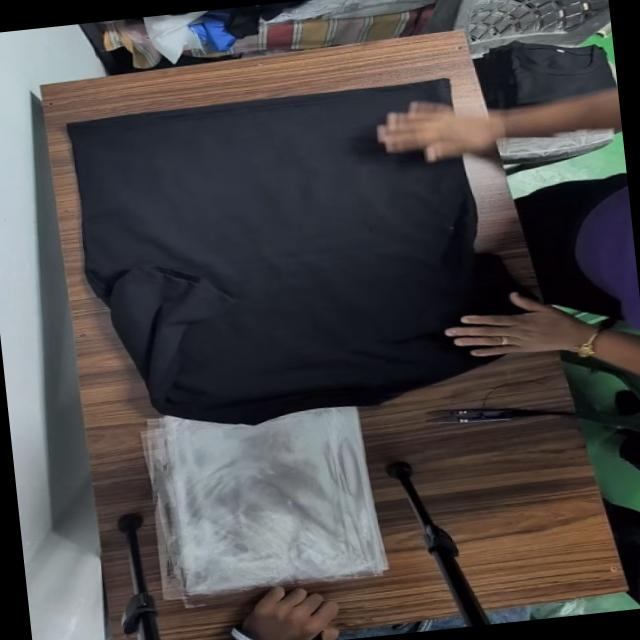new-garment: (69, 79, 476, 423)
